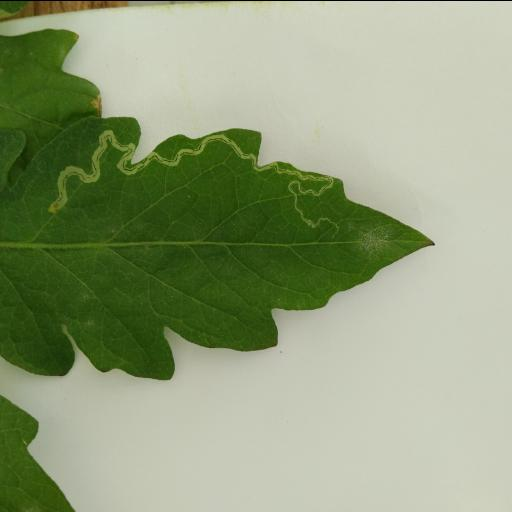Leaf Miner: (0, 118, 438, 382)
